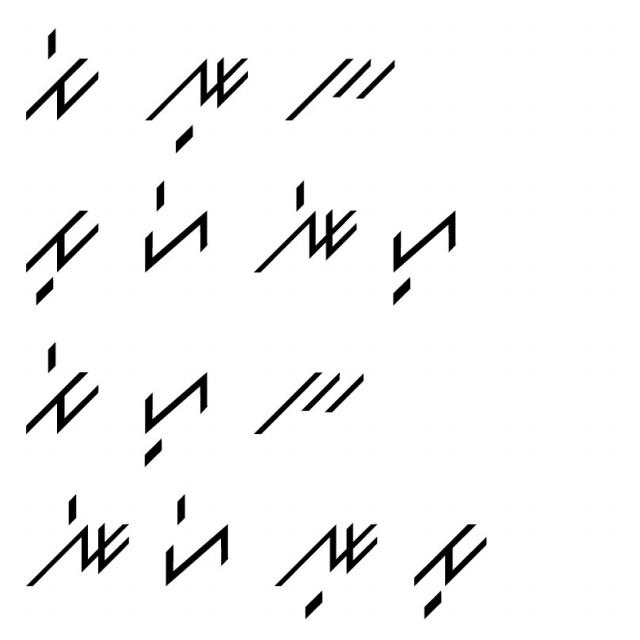he: (156, 492, 238, 588), (138, 176, 216, 274)
hu: (375, 198, 467, 310), (135, 360, 217, 472)
mbe: (18, 338, 103, 444), (15, 27, 98, 130)
mbu: (14, 200, 100, 309), (410, 509, 494, 620)
nde: (2, 483, 136, 605), (248, 173, 365, 286)
ndu: (140, 44, 254, 157), (270, 512, 380, 622)
